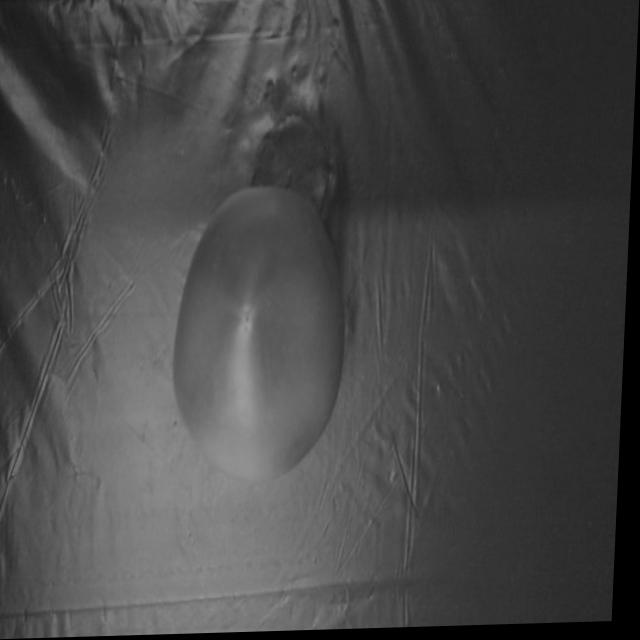sari: (157, 170, 372, 495)
